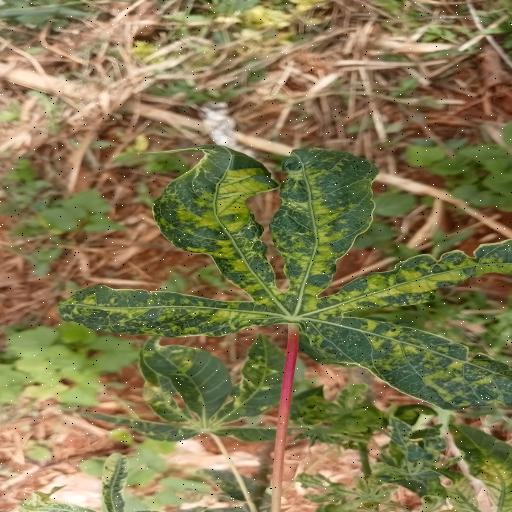Cassava_Mosaic: (51, 142, 512, 420), (77, 334, 413, 445)
